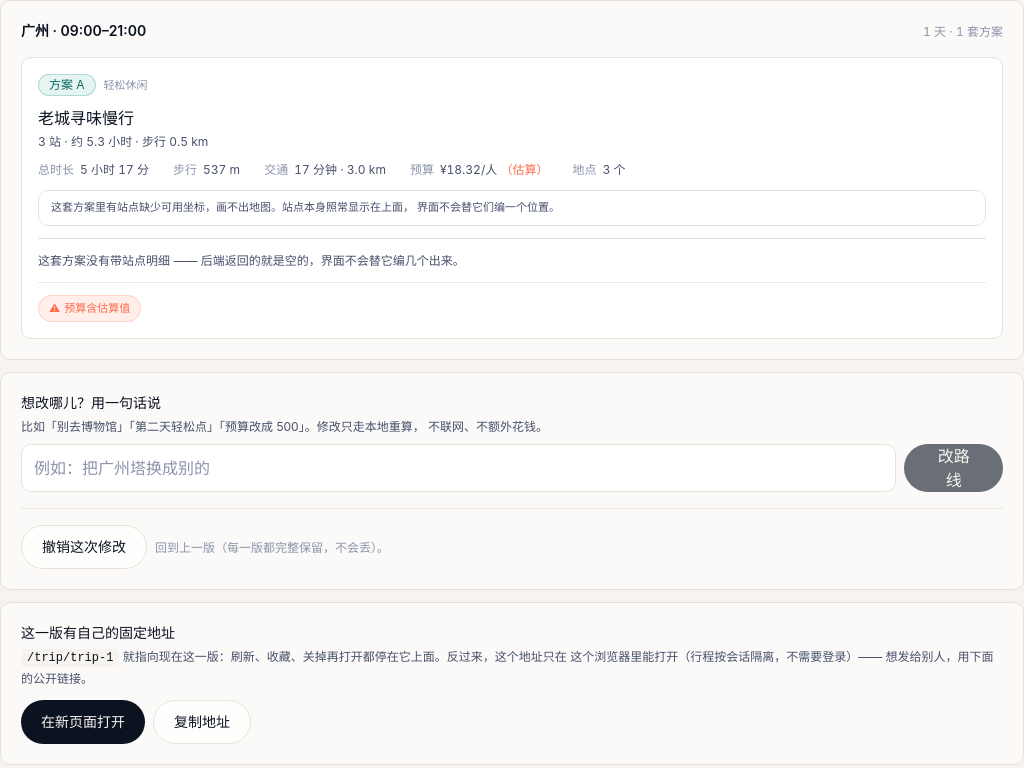
改路线 › 失败时展示后端的 code/hint，不假装成功
The width and height of the screenshot is (1024, 768).
Check: the element with test id "trip-result" is shown, box [0,0,1023,360]
Type "全程只能走路" into the field labelled "想改哪儿？用一句话说".
click(459, 468); type("全程只能走路")  # box [21,444,896,492]
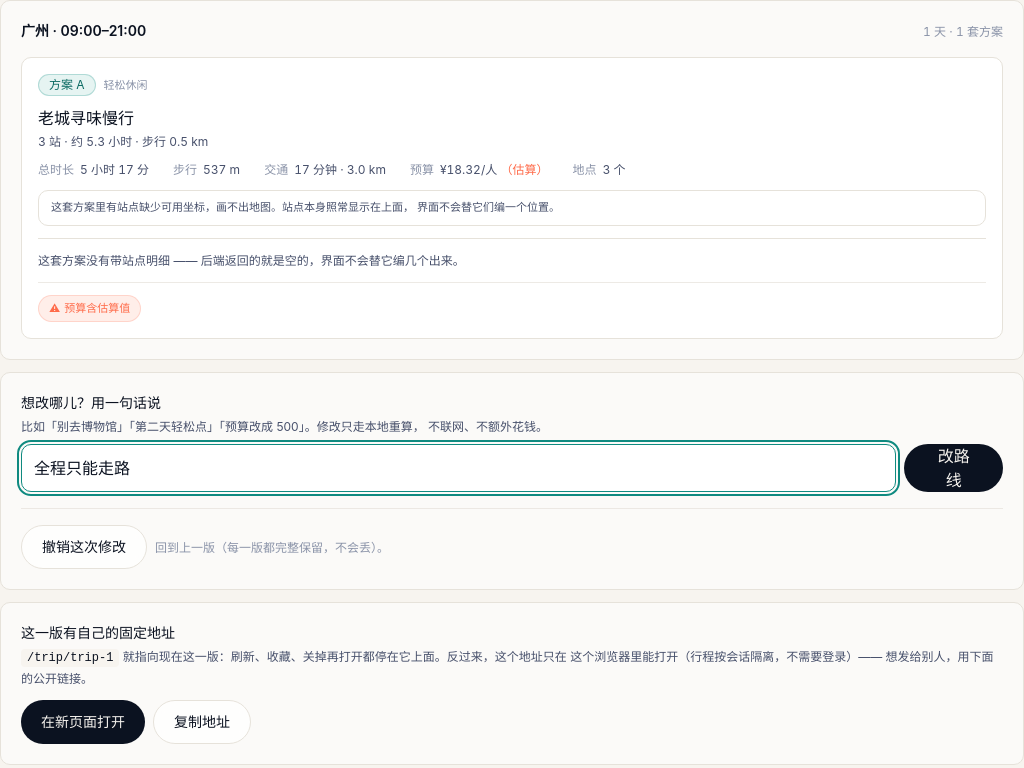
Click the button "改路线".
click(954, 468)  # box [904,444,1003,492]
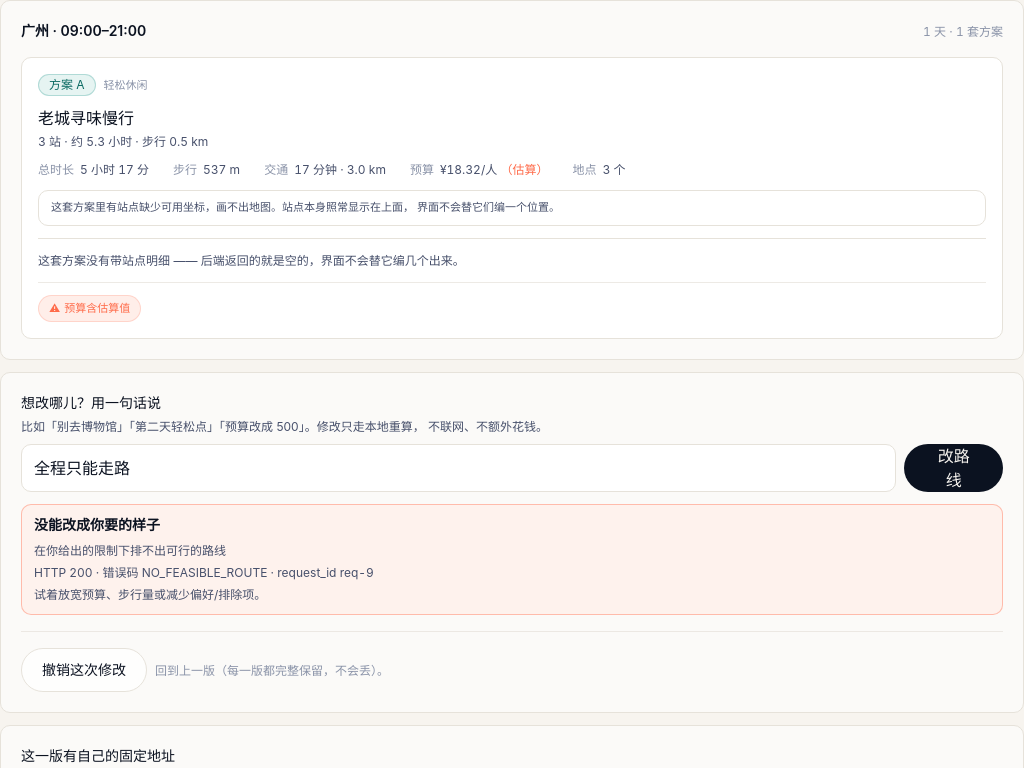
Check: the element with test id "revision-error" shows "没能改成你要的样子", box [34,516,160,533]
Check: the element with test id "revision-error" shows "排不出可行的路线", box [34,543,226,558]
Check: the element with test id "revision-error" shows "错误码 NO_FEASIBLE_ROUTE", box [34,565,374,580]
